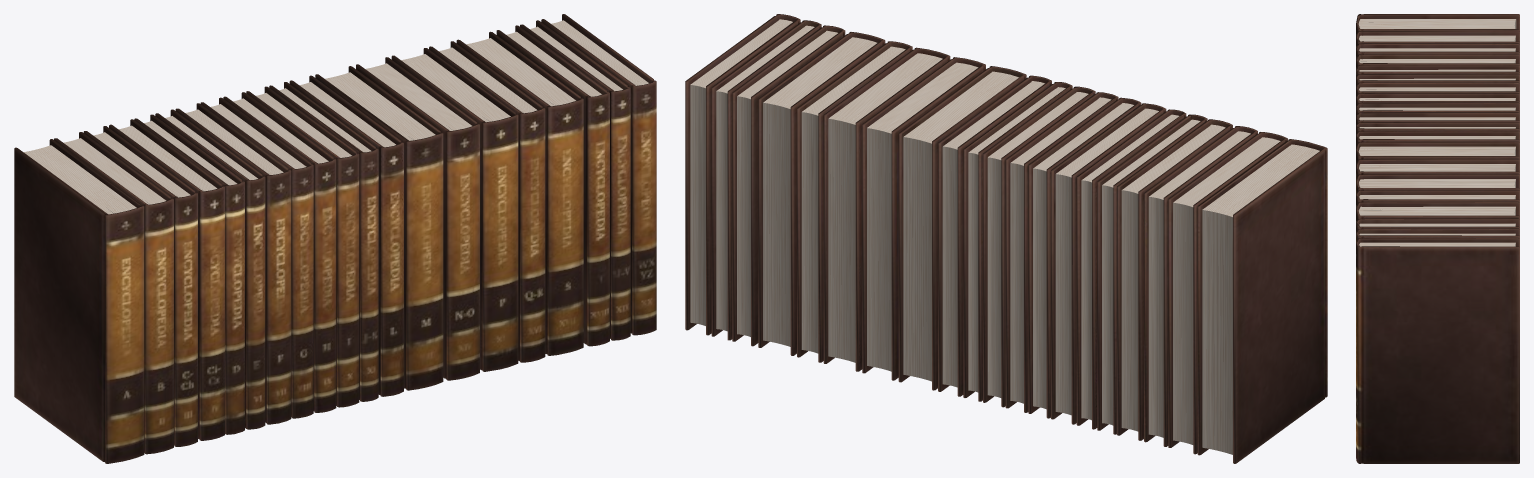
The model's file is book_encyclopedia_set_01.glb.
The picture shows the model from 3 angles, left to right: view 1: azimuth 30°, elevation 25°; view 2: azimuth 150°, elevation 25°; view 3: azimuth 270°, elevation 25°; orthographic projection. The views are drawn at different scales.
Parts seen in each view (by area): view 1: book_encyclopedia_set_01_book01; view 2: book_encyclopedia_set_01_book01; view 3: book_encyclopedia_set_01_book01.
Boxes of the visible parts, x1=… form: book_encyclopedia_set_01_book01: x1=14, y1=14, x2=656, y2=463; book_encyclopedia_set_01_book01: x1=685, y1=14, x2=1327, y2=463; book_encyclopedia_set_01_book01: x1=1356, y1=14, x2=1519, y2=463.
Size of the model in its own units: 0.5513 by 0.2374 by 0.1631.
Materials: 2 (2 with a texture image).
